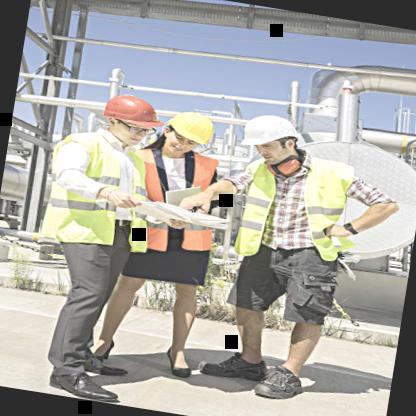helmet: (88, 79, 174, 152), (232, 102, 310, 180), (154, 101, 224, 159)
